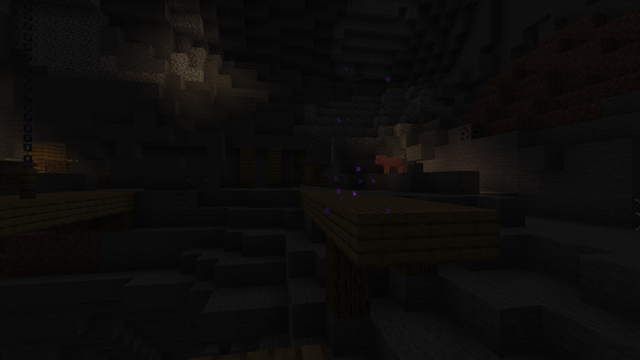cochons: (381, 156, 403, 173)
